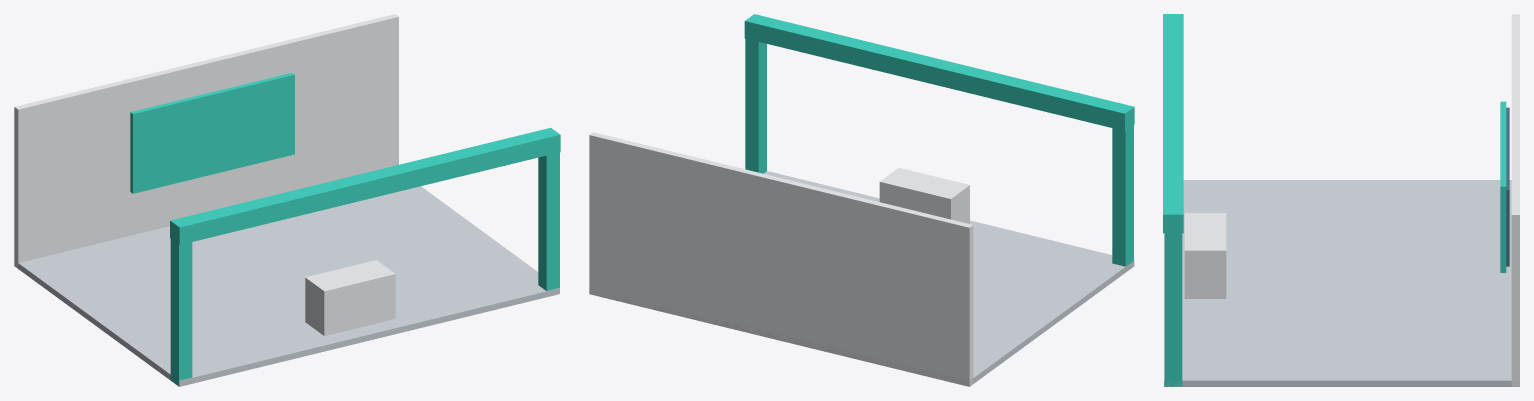
3 views of the same model, side by side, from view 1: azimuth 30°, elevation 25°; view 2: azimuth 150°, elevation 25°; view 3: azimuth 270°, elevation 25° (orthographic). The views are drawn at different scales.
Parts seen in each view (by area): view 1: Exhibition Booth Concept; view 2: Exhibition Booth Concept; view 3: Exhibition Booth Concept.
Boxes of the visible parts, box(x1,y1,x2,y2) form: Exhibition Booth Concept: box(14, 14, 560, 386); Exhibition Booth Concept: box(589, 14, 1134, 386); Exhibition Booth Concept: box(1163, 14, 1519, 386).
Bounding box in the file's own units: 8 × 3.2 × 6.02.
